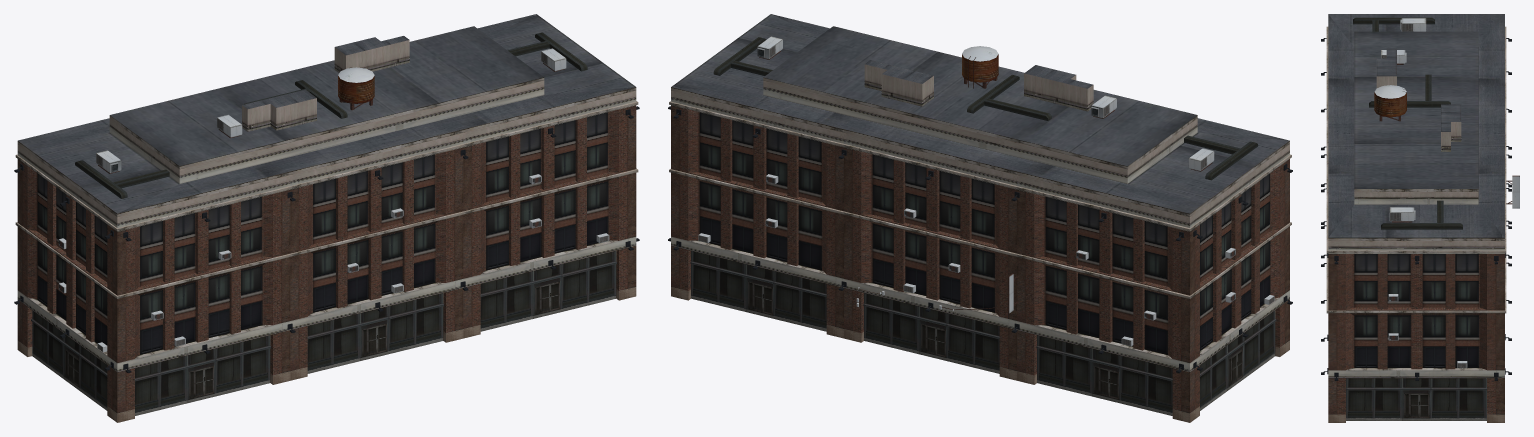
Rendered from downtown_brownstoneoffice_1.glb.
3 renders of one model, left to right at view 1: azimuth 30°, elevation 25°; view 2: azimuth 150°, elevation 25°; view 3: azimuth 270°, elevation 25°, orthographic. The views are drawn at different scales.
Visible parts, largest first — view 1: Downtown_BrownstoneOffice_1_Downtown_Facade_FLR_2_0, Downtown_BrownstoneOffice_1_Downtown_Brownstone_Firstfloor_1; view 2: Downtown_BrownstoneOffice_1_Downtown_Facade_FLR_2_0, Downtown_BrownstoneOffice_1_Downtown_Brownstone_Firstfloor_1; view 3: Downtown_BrownstoneOffice_1_Downtown_Facade_FLR_2_0, Downtown_BrownstoneOffice_1_Downtown_Brownstone_Firstfloor_1.
Part boxes in pixels (x1,y1,x2,y2): Downtown_BrownstoneOffice_1_Downtown_Facade_FLR_2_0: (14, 14, 639, 422); Downtown_BrownstoneOffice_1_Downtown_Brownstone_Firstfloor_1: (31, 32, 616, 415); Downtown_BrownstoneOffice_1_Downtown_Facade_FLR_2_0: (668, 14, 1292, 422); Downtown_BrownstoneOffice_1_Downtown_Brownstone_Firstfloor_1: (690, 36, 1276, 415); Downtown_BrownstoneOffice_1_Downtown_Facade_FLR_2_0: (1321, 14, 1511, 422); Downtown_BrownstoneOffice_1_Downtown_Brownstone_Firstfloor_1: (1346, 17, 1519, 420).
Size of the model in its own units: 52.98 by 24.71 by 19.35.
Materials: 2 (2 with a texture image).
